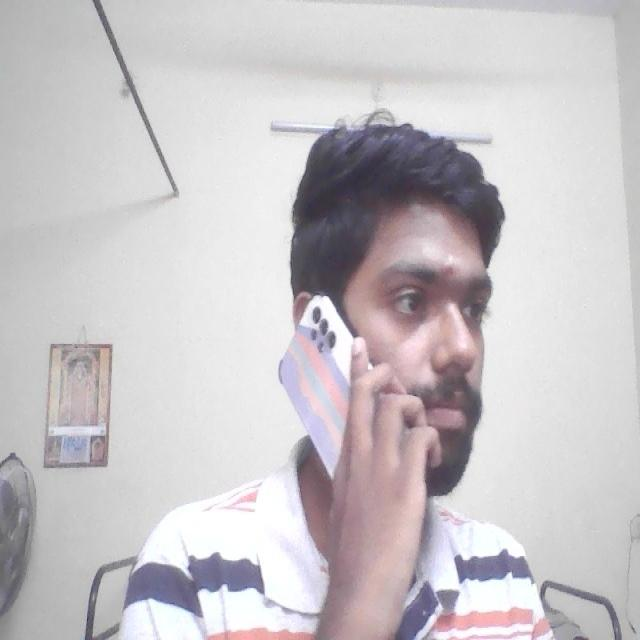Mobile: (271, 271, 372, 470)
